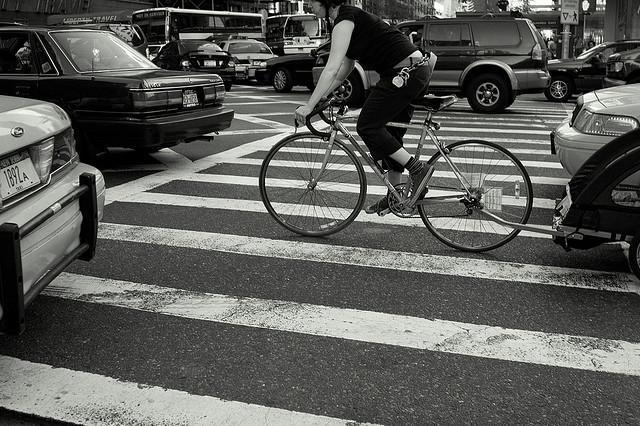bicycle: (259, 94, 533, 253)
bus: (132, 7, 266, 61), (281, 13, 328, 53)
car: (1, 26, 234, 152), (0, 94, 106, 336), (312, 15, 550, 114), (546, 125, 640, 258), (546, 81, 640, 179), (545, 39, 639, 101), (56, 15, 156, 62), (152, 38, 237, 92), (253, 38, 332, 94), (220, 40, 280, 78), (600, 46, 640, 90)
